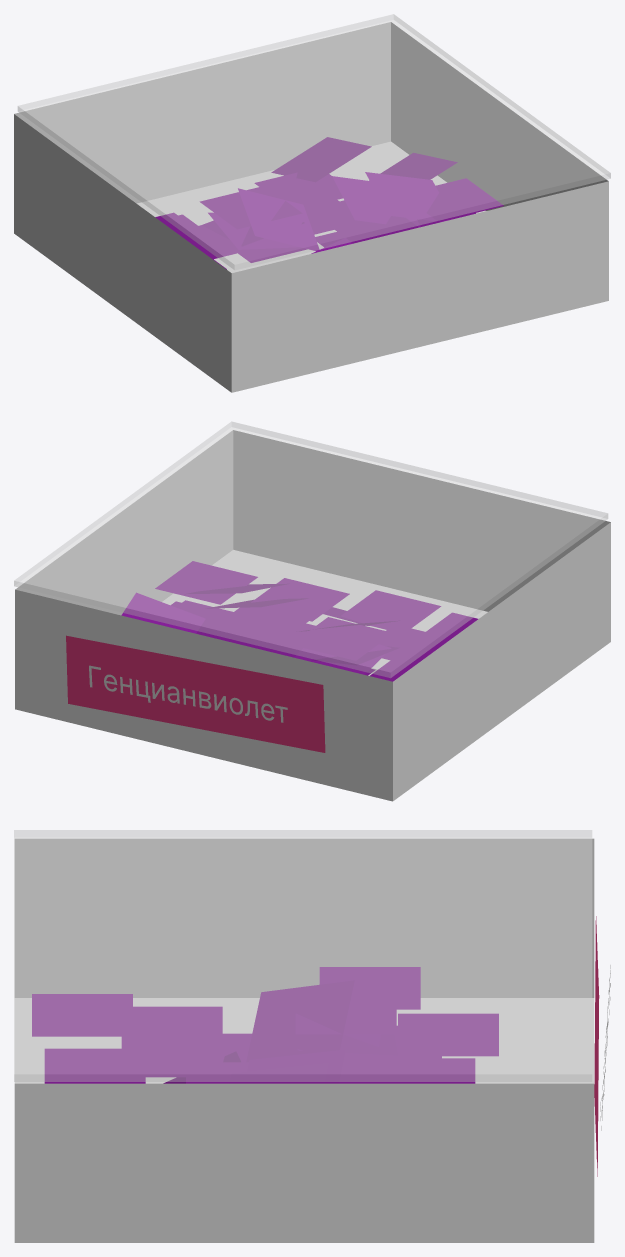
Rendered from cyan_box.glb.
The picture shows the model from 3 angles, top to bottom: view 1: azimuth 30°, elevation 25°; view 2: azimuth 150°, elevation 25°; view 3: azimuth 270°, elevation 25°; orthographic projection. The views are drawn at different scales.
Parts seen in each view (by area): view 1: Cube, Cube.001, Plane.010, Plane.001, Plane.009, Plane.007, Plane.006, Plane.004, Plane.023, Plane.025, Plane, Plane.022 (+3 smaller); view 2: Cube, Cube.001, Plane.029, Plane.004, Plane.024, Plane.007, Plane.025, Plane, Text, Plane.022, Plane.017, Plane.005 (+4 smaller); view 3: Cube, Cube.001, Plane.010, Plane.002, Plane.027, Plane.024, Plane.026, Plane.004, Plane.020, Plane.028, Plane.006, Plane.001 (+7 smaller).
Part boxes in pixels (<box>): Cube: <box>14,22,608,392</box>; Cube.001: <box>18,14,610,269</box>; Plane.010: <box>238,188,319,251</box>; Plane.001: <box>365,172,452,221</box>; Plane.009: <box>271,137,371,182</box>; Plane.007: <box>427,178,503,221</box>; Plane.006: <box>332,176,420,227</box>; Plane.004: <box>200,186,302,229</box>; Plane.023: <box>254,172,342,202</box>; Plane.025: <box>326,216,418,243</box>; Plane: <box>295,194,352,234</box>; Plane.022: <box>369,153,457,180</box>; Cube: <box>15,430,610,801</box>; Cube.001: <box>14,421,607,677</box>; Plane.029: <box>66,635,325,752</box>; Plane.004: <box>290,617,393,660</box>; Plane.024: <box>341,590,440,633</box>; Plane.007: <box>155,561,257,604</box>; Plane.025: <box>251,578,349,621</box>; Plane: <box>238,616,315,657</box>; Text: <box>89,665,287,722</box>; Plane.022: <box>121,592,205,632</box>; Plane.017: <box>379,628,451,664</box>; Plane.005: <box>210,607,308,638</box>; Cube: <box>14,838,594,1242</box>; Cube.001: <box>14,830,591,1081</box>; Plane.010: <box>246,980,354,1062</box>; Plane.002: <box>398,1013,498,1056</box>; Plane.027: <box>32,994,132,1036</box>; Plane.024: <box>124,1034,225,1077</box>; Plane.026: <box>44,1048,145,1083</box>; Plane.004: <box>295,991,396,1034</box>; Plane.020: <box>319,967,420,1009</box>; Plane.028: <box>121,1006,222,1048</box>; Plane.006: <box>247,1049,345,1083</box>; Plane.001: <box>229,1063,327,1083</box>.
Bounding box in the file's own units: 0.3726 × 0.1198 × 0.3817.
